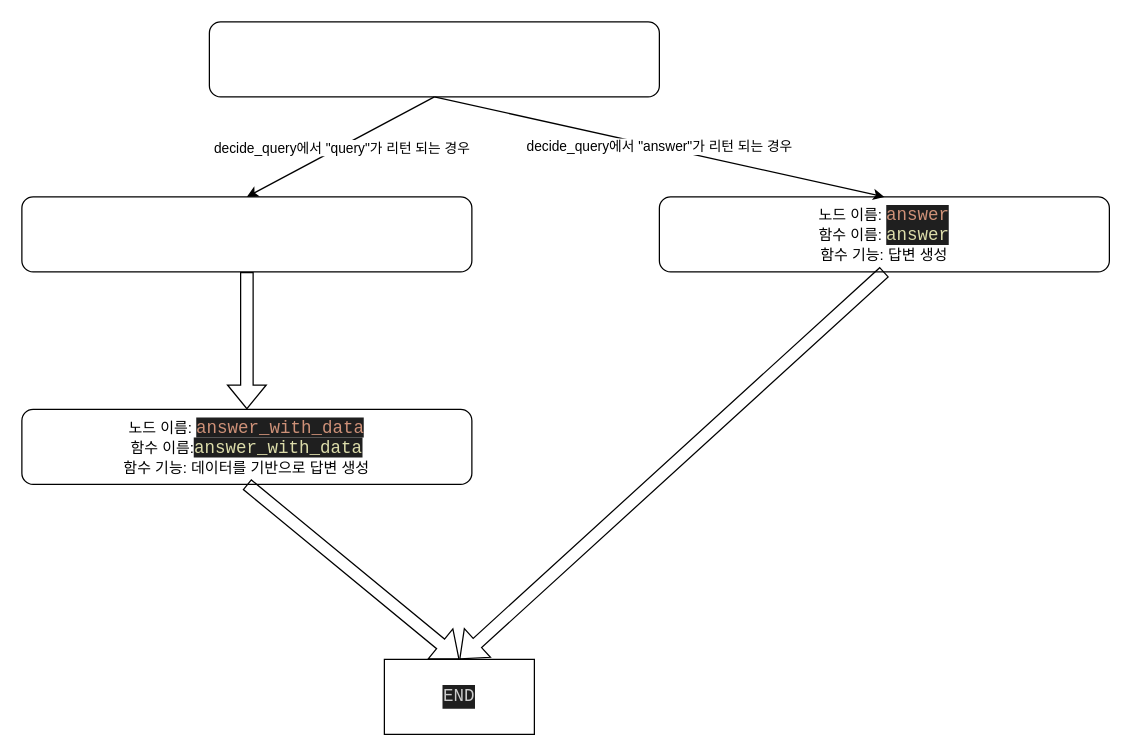
Some shapes in this 1131 by 756 pixel diagram are drawn without their labels. Here are the shapes that lost their labels. From the top down, the centre of each, then its label:
At point 433,59: "노드 이름: init_answer 함수 이름: init_answer 함수 기능:코드를 생성할지 여부 확인, 답변 생성".
At point 246,234: "노드 이름: query 함수 이름: query 함수 기능: 코드를 생성".
